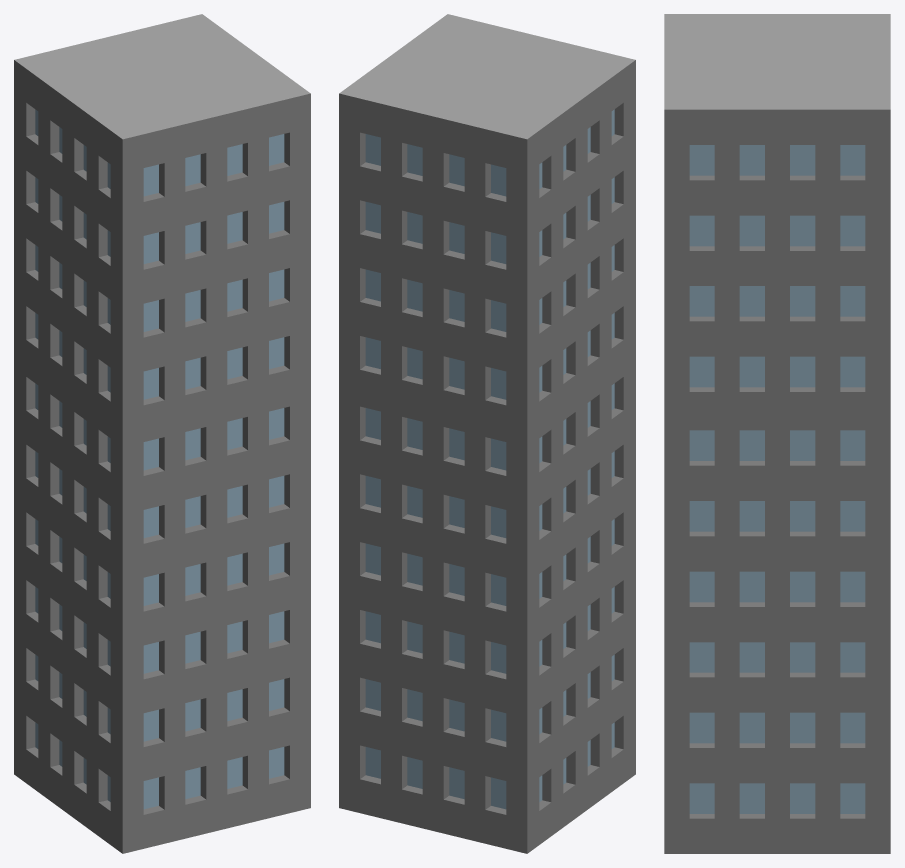
Rendered from MEDIUM BUILDING final.fbx.
3 views of the same model, side by side, from view 1: azimuth 30°, elevation 25°; view 2: azimuth 150°, elevation 25°; view 3: azimuth 270°, elevation 25° (orthographic). The views are drawn at different scales.
Parts seen in each view (by area): view 1: pCube1, pCube2; view 2: pCube1, pCube2; view 3: pCube1, pCube2.
Boxes of the visible parts, <box> form: pCube1: <box>14,334,310,853</box>; pCube2: <box>14,14,310,443</box>; pCube1: <box>339,334,635,853</box>; pCube2: <box>339,14,635,442</box>; pCube1: <box>664,395,890,853</box>; pCube2: <box>664,14,890,427</box>.
Size of the model in its own units: 10.09 by 36.63 by 10.09.
